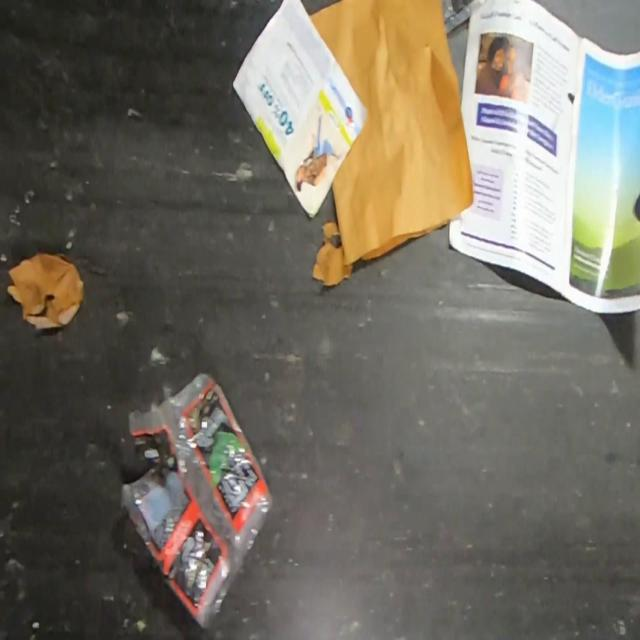soft_plastic: (118, 373, 276, 630)
